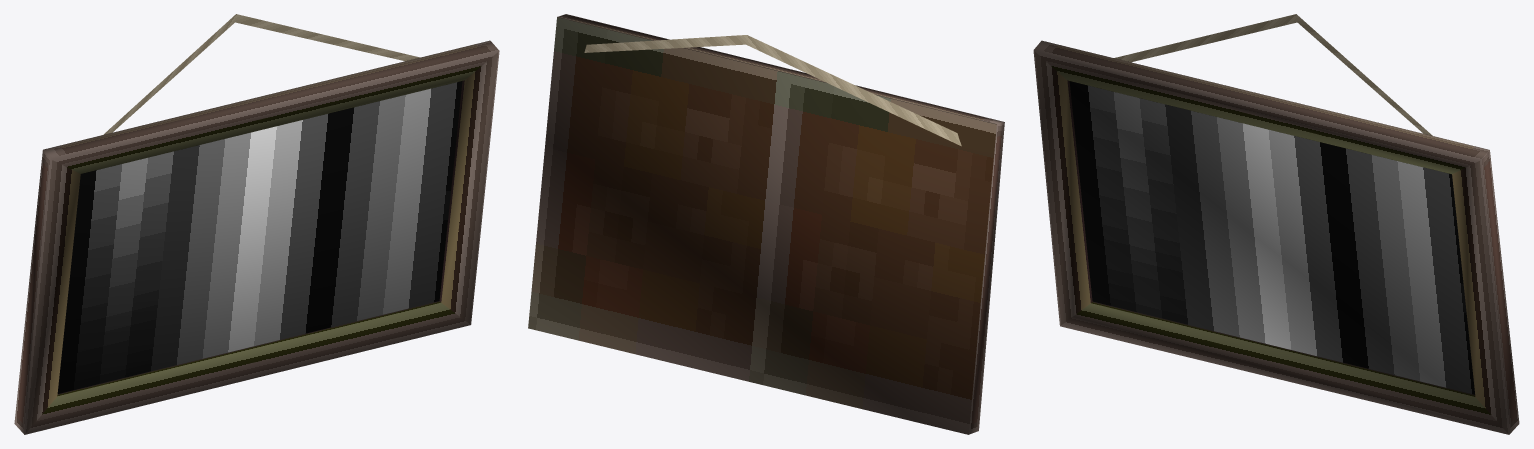
The model's file is int_oth_awardY.dae.
The picture shows the model from 3 angles, left to right: view 1: azimuth 30°, elevation 25°; view 2: azimuth 150°, elevation 25°; view 3: azimuth 330°, elevation 25°; orthographic projection.
Visible parts, largest first — view 1: int_oth_awardY; view 2: int_oth_awardY; view 3: int_oth_awardY.
Boxes of the visible parts, left/top/right/bottom form: int_oth_awardY: left=14, top=14, right=499, bottom=434; int_oth_awardY: left=528, top=14, right=1004, bottom=434; int_oth_awardY: left=1033, top=14, right=1519, bottom=434.
Size of the model in its own units: 30.88 by 23.57 by 4.87.
Materials: 4 (4 with a texture image).
